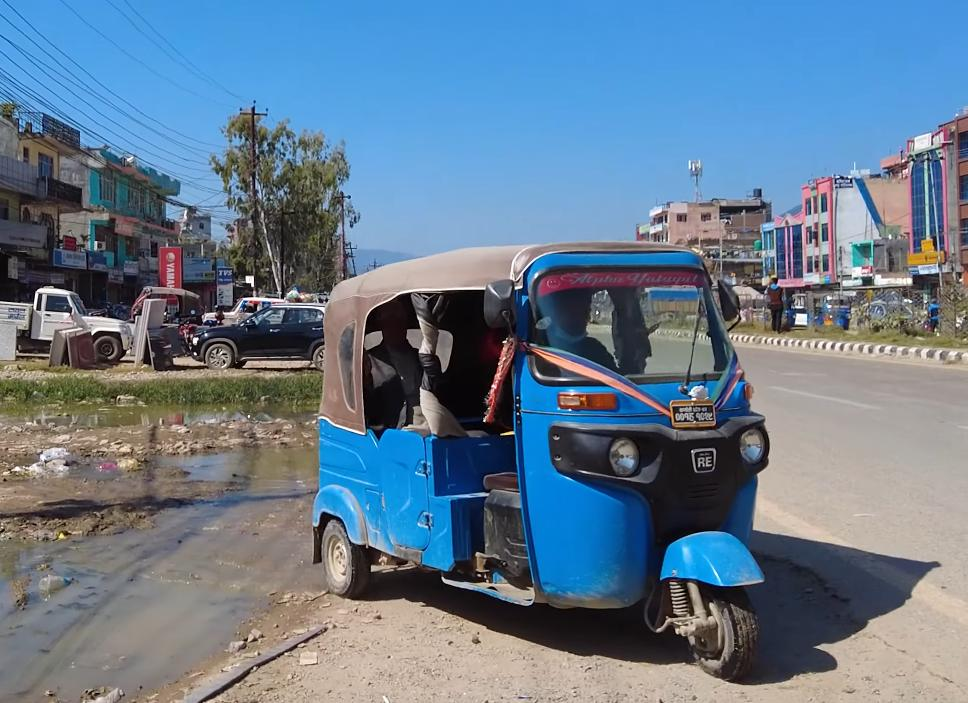auto_rickshaw: (305, 232, 774, 687)
car: (183, 301, 336, 378)
